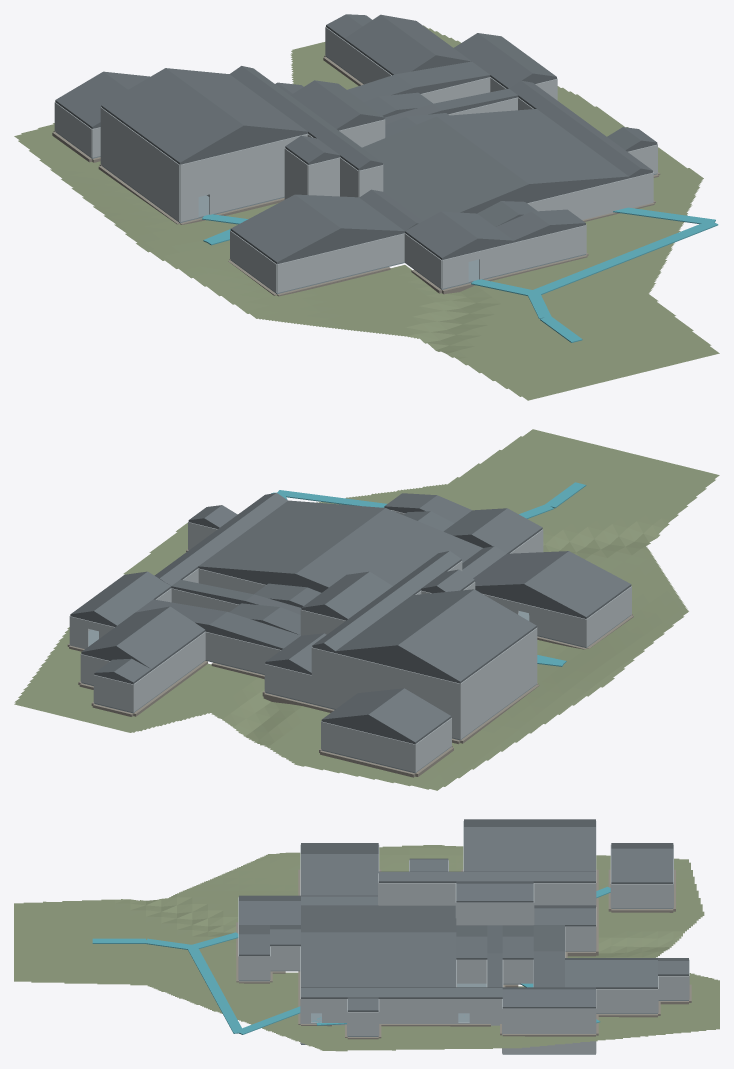
File: enclosed-roofs.glb
3 renders of one model, top to bottom at view 1: azimuth 30°, elevation 25°; view 2: azimuth 150°, elevation 25°; view 3: azimuth 270°, elevation 25°, orthographic. The views are drawn at different scales.
Visible parts, largest first — view 1: Saved editor macroterrain ASYLUM, clinical-and-dining roof west, clinical-and-dining roof east, two-storey-ward roof west, day-pavilion roof west, Wall day S, two-storey-ward roof east, quiet-pavilion roof west, upper-spine roof west, Wall meal-return S, day-pavilion roof east, service-corridor roof west (+44 smaller); view 2: Saved editor macroterrain ASYLUM, clinical-and-dining roof east, clinical-and-dining roof west, two-storey-ward roof west, day-pavilion roof west, two-storey-ward roof east, quiet-pavilion roof west, Wall chapel N, chapel roof west, upper-spine roof west, service-corridor roof west, day-pavilion roof east (+42 smaller); view 3: Saved editor macroterrain ASYLUM, clinical-and-dining roof east, two-storey-ward roof east, clinical-and-dining roof west, Flat route shell Wall service E, day-pavilion roof east, quiet-pavilion roof east, Wall service-stair E, upper-spine roof east, chapel roof east, service-corridor roof east, service-stair roof east (+32 smaller).
Part boxes in pixels (x1,y1,x2,y2): Saved editor macroterrain ASYLUM: [14, 25, 719, 400]; clinical-and-dining roof west: [362, 116, 528, 220]; clinical-and-dining roof east: [437, 109, 628, 185]; two-storey-ward roof west: [101, 68, 243, 164]; day-pavilion roof west: [230, 194, 340, 263]; Wall day S: [277, 233, 404, 292]; two-storey-ward roof east: [166, 68, 307, 133]; quiet-pavilion roof west: [344, 15, 435, 75]; upper-spine roof west: [229, 66, 370, 170]; Wall meal-return S: [527, 178, 629, 218]; day-pavilion roof east: [295, 194, 404, 232]; service-corridor roof west: [509, 81, 640, 177]; Saved editor macroterrain ASYLUM: [14, 429, 719, 790]; clinical-and-dining roof east: [198, 500, 385, 575]; clinical-and-dining roof west: [295, 508, 482, 588]; two-storey-ward roof west: [398, 589, 536, 683]; day-pavilion roof west: [524, 551, 631, 618]; two-storey-ward roof east: [335, 589, 473, 652]; quiet-pavilion roof west: [116, 606, 205, 669]; Wall chapel N: [321, 721, 415, 772]; chapel roof west: [368, 688, 451, 743]; upper-spine roof west: [324, 551, 461, 652]; service-corridor roof west: [159, 493, 287, 585]; day-pavilion roof east: [473, 551, 568, 587]; Saved editor macroterrain ASYLUM: [14, 845, 719, 1051]; clinical-and-dining roof east: [301, 932, 456, 987]; two-storey-ward roof east: [464, 827, 595, 871]; clinical-and-dining roof west: [301, 905, 456, 932]; Flat route shell Wall service E: [322, 999, 501, 1022]; day-pavilion roof east: [301, 854, 378, 895]; quiet-pavilion roof east: [565, 960, 657, 988]; Wall service-stair E: [502, 1008, 595, 1032]; upper-spine roof east: [378, 872, 595, 882]; chapel roof east: [611, 848, 673, 883]; service-corridor roof east: [301, 988, 502, 998]; service-stair roof east: [502, 989, 595, 1008].
Bounding box in the file's own units: 62 × 12.8 × 91.
